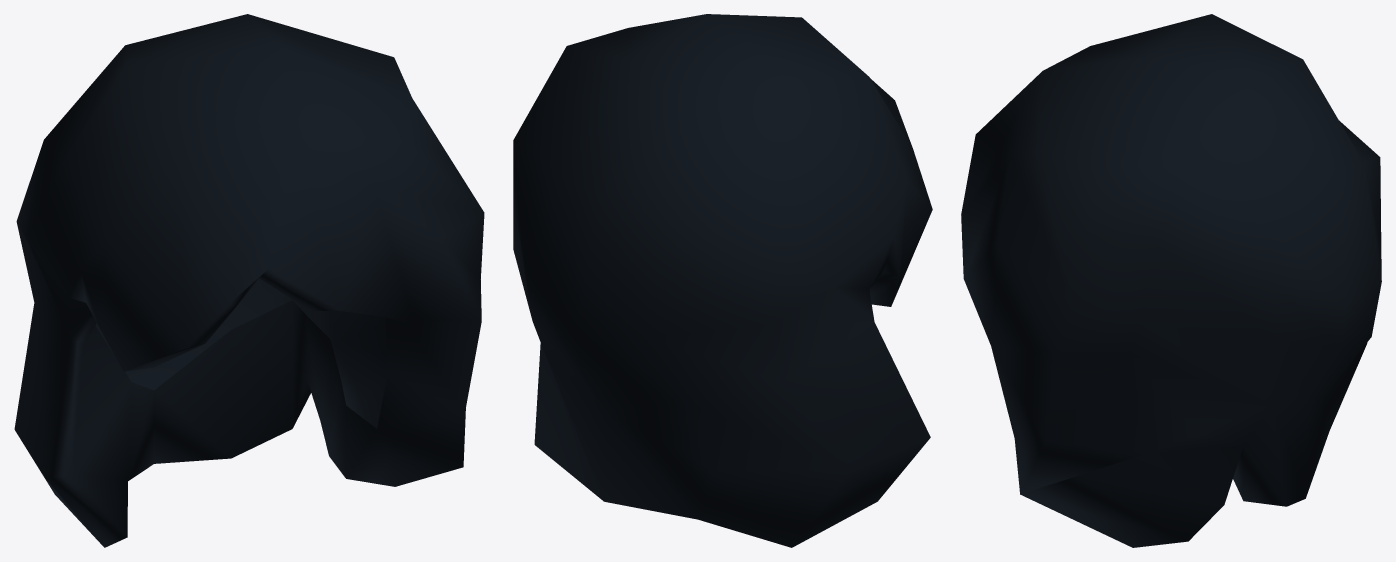
File: HairCurlyBlack.fbx
3 renders of one model, left to right at view 1: azimuth 30°, elevation 25°; view 2: azimuth 150°, elevation 25°; view 3: azimuth 270°, elevation 25°, orthographic. The views are drawn at different scales.
Visible parts, largest first — view 1: HairCurlyBlack; view 2: HairCurlyBlack; view 3: HairCurlyBlack.
Boxes of the visible parts, <box> form: HairCurlyBlack: <box>14,14,484,547</box>; HairCurlyBlack: <box>513,14,932,547</box>; HairCurlyBlack: <box>961,14,1381,547</box>.
Size of the model in its own units: 61.42 by 68.25 by 58.89.
